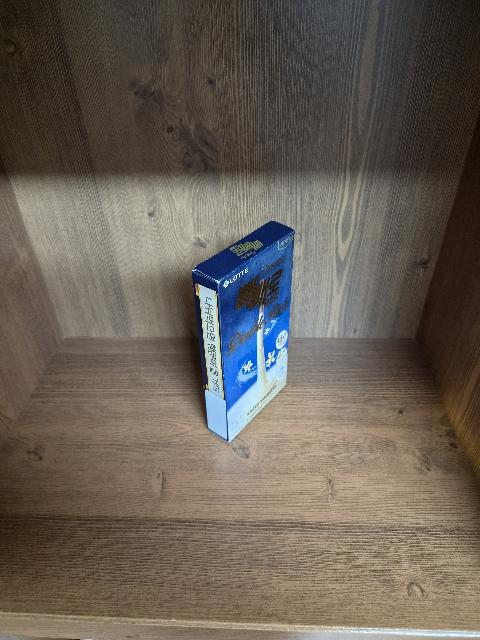pepero: (192, 221, 296, 443)
